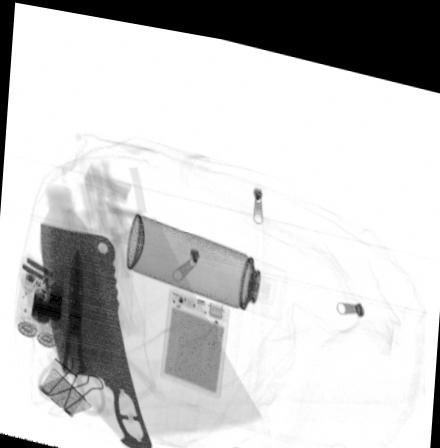Knife: (37, 218, 151, 447)
Powerbank: (158, 279, 230, 391)
Scissors: (36, 245, 109, 414)
Sprayer: (126, 209, 288, 312)
